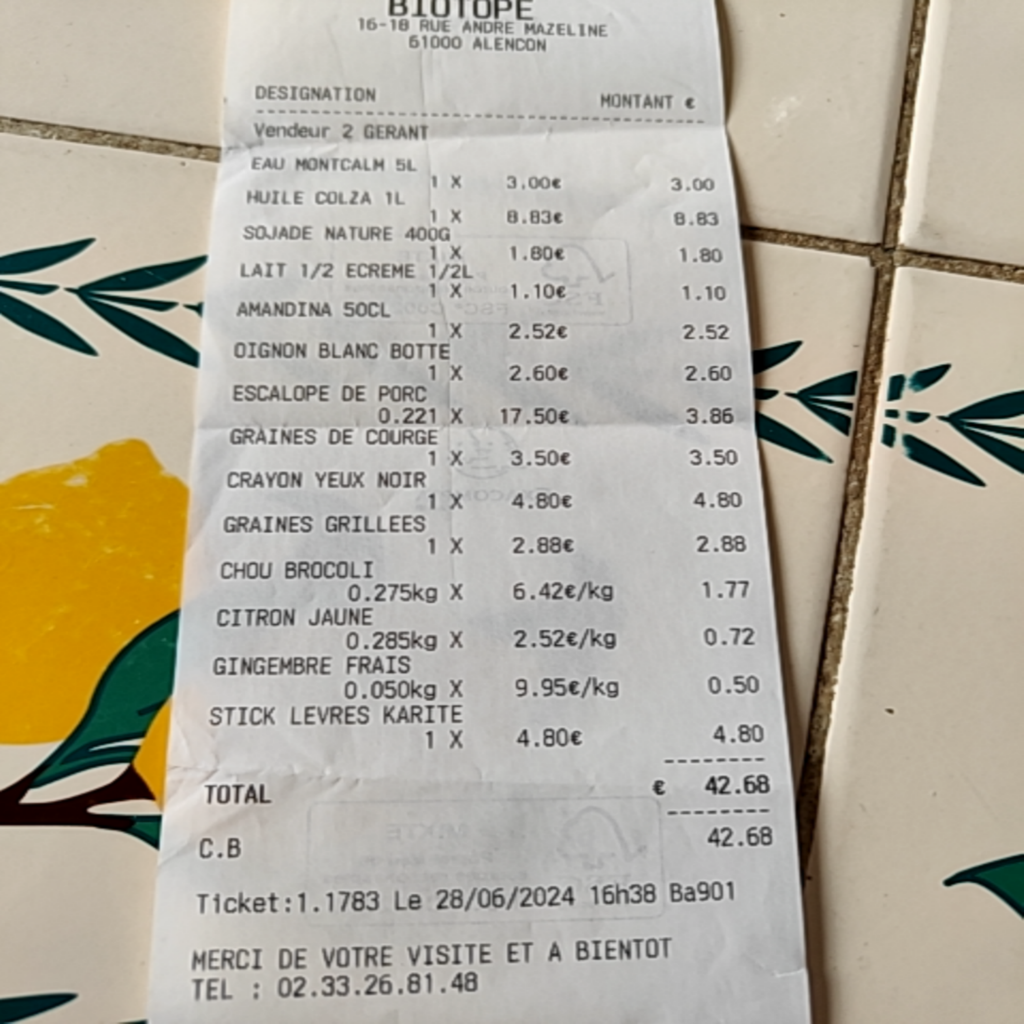recipt: (147, 0, 810, 1024)
